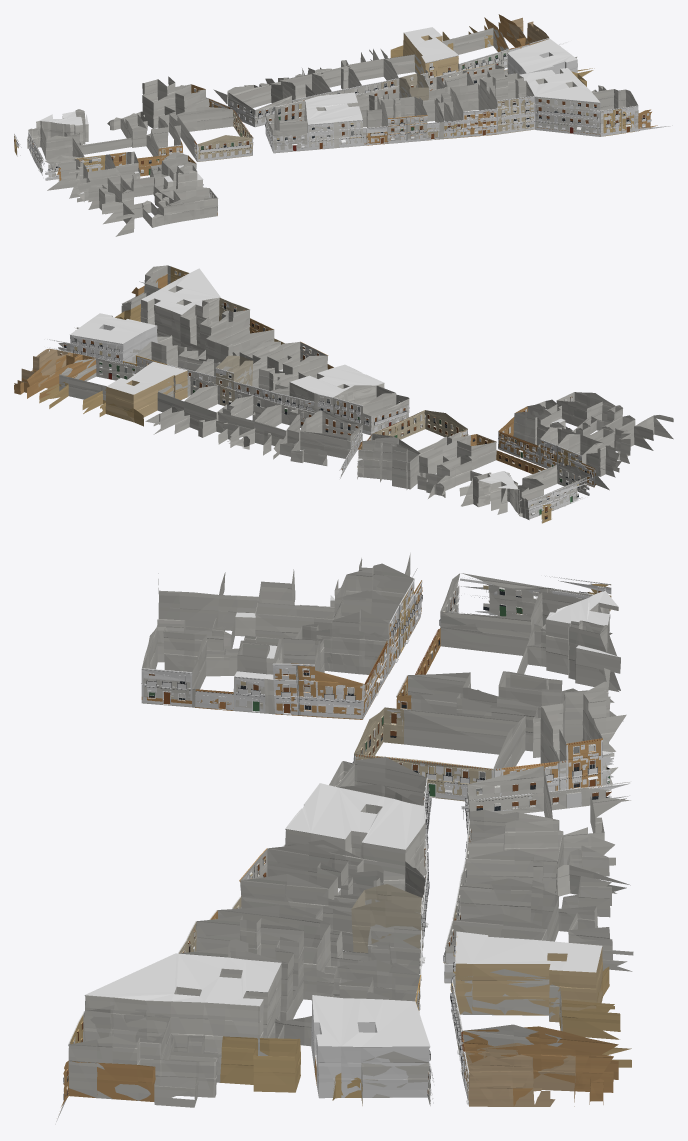
The model's file is zona_-1_-2.glb.
The picture shows the model from 3 angles, top to bottom: view 1: azimuth 30°, elevation 25°; view 2: azimuth 150°, elevation 25°; view 3: azimuth 270°, elevation 25°; orthographic projection. The views are drawn at different scales.
Visible parts, largest first — view 1: z_casas_-1_-2, z_fachadas_-1_-2, z_casas_planas_-1_-2; view 2: z_casas_-1_-2, z_casas_planas_-1_-2, z_fachadas_-1_-2; view 3: z_casas_-1_-2, z_casas_planas_-1_-2, z_fachadas_-1_-2.
Boxes of the visible parts, box(x1,y1,x2,y2) form: z_casas_-1_-2: box(14, 14, 657, 236); z_fachadas_-1_-2: box(14, 38, 672, 215); z_casas_planas_-1_-2: box(36, 27, 600, 201); z_casas_-1_-2: box(14, 265, 673, 523); z_casas_planas_-1_-2: box(70, 268, 621, 516); z_fachadas_-1_-2: box(49, 265, 595, 522); z_casas_-1_-2: box(61, 553, 633, 1107); z_casas_planas_-1_-2: box(84, 588, 620, 1098); z_fachadas_-1_-2: box(55, 576, 629, 1124).
Bounding box in the file's own units: 214 × 15.11 × 99.74.
